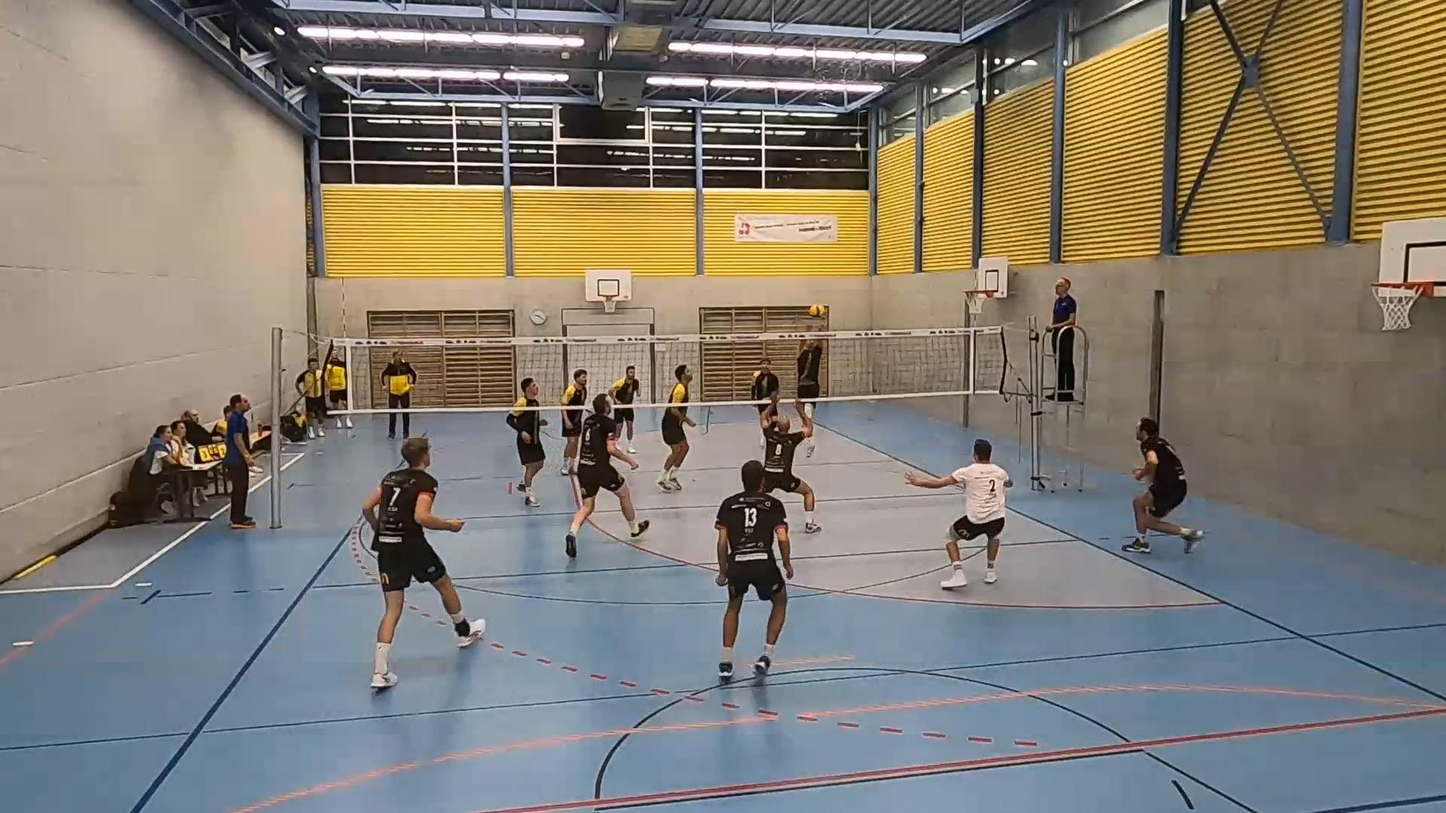muro: (790, 327, 829, 463)
